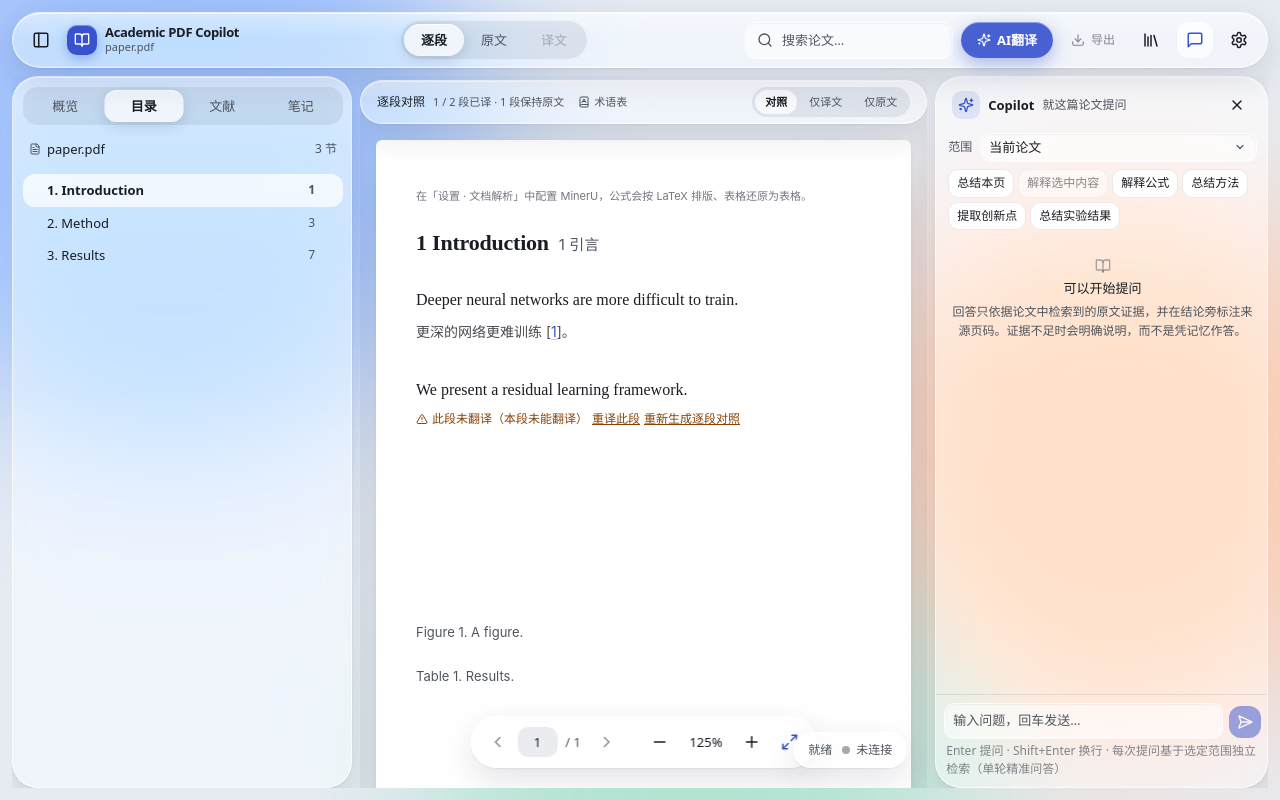
Test: DS-DOC-008 · the reading › links a citation to its bibliography entry and offers the way back
Click the button with test id "citation-link" at (554, 332), box [551,319,557,344]
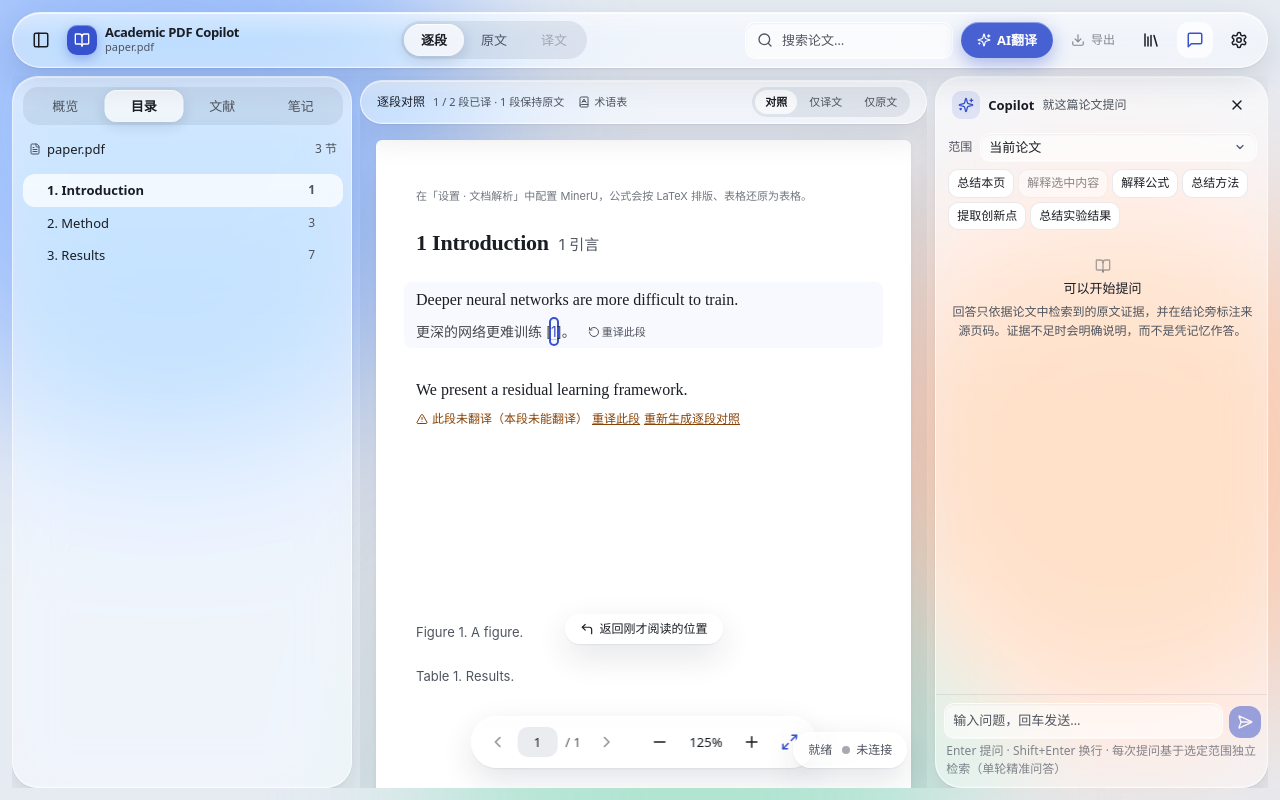
Click the button with test id "citation-return" at (644, 629), box [565,614,723,644]
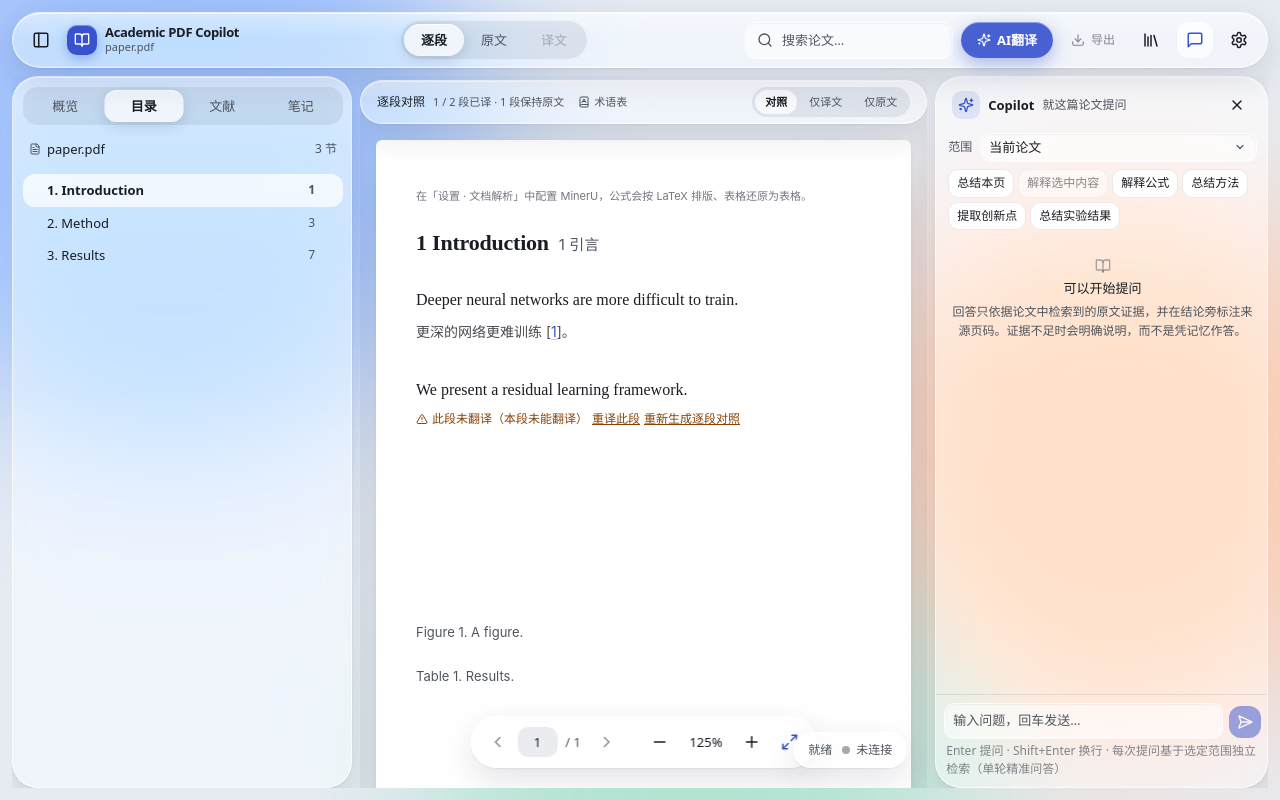
Result: the button with test id "citation-return" is gone
